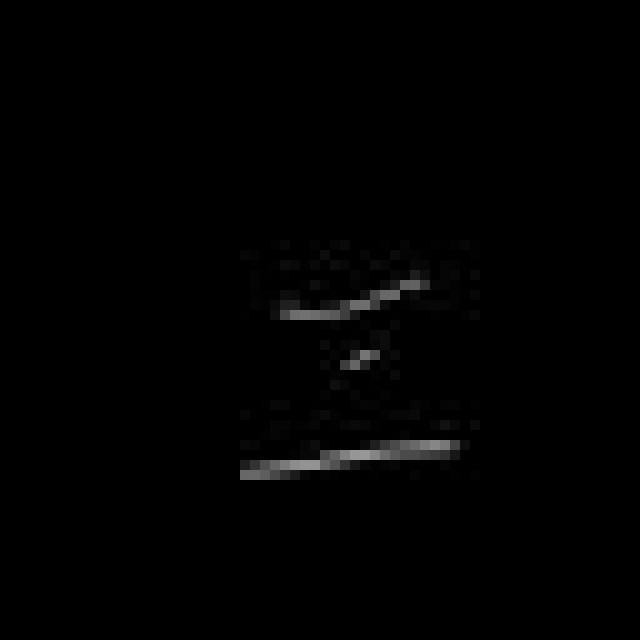3 -three-: (220, 264, 466, 492)
